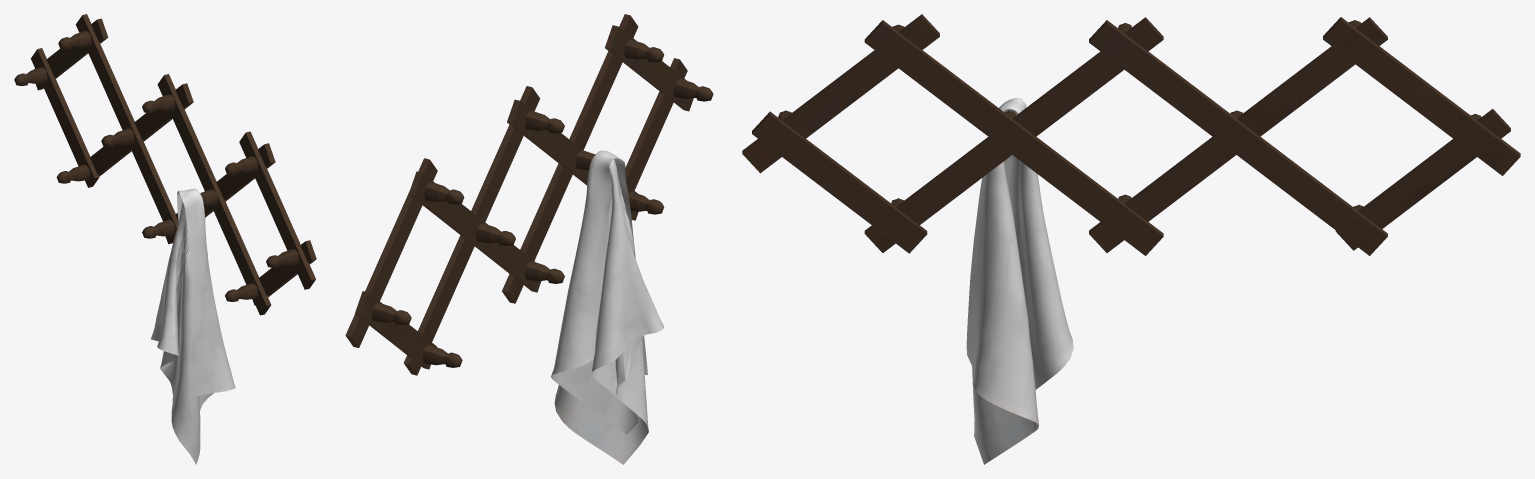
Rendered from ropa_towel_rail.glb.
3 views of the same model, side by side, from view 1: azimuth 30°, elevation 25°; view 2: azimuth 150°, elevation 25°; view 3: azimuth 270°, elevation 25° (orthographic). The views are drawn at different scales.
Parts seen in each view (by area): view 1: Object_2; view 2: Object_2; view 3: Object_2.
Boxes of the visible parts, x1=… form: Object_2: x1=14, y1=14, x2=316, y2=464; Object_2: x1=345, y1=14, x2=713, y2=464; Object_2: x1=742, y1=14, x2=1520, y2=464.
Size of the model in its own units: 0.0961 by 0.3988 by 0.6.
Materials: 1 (1 with a texture image).
